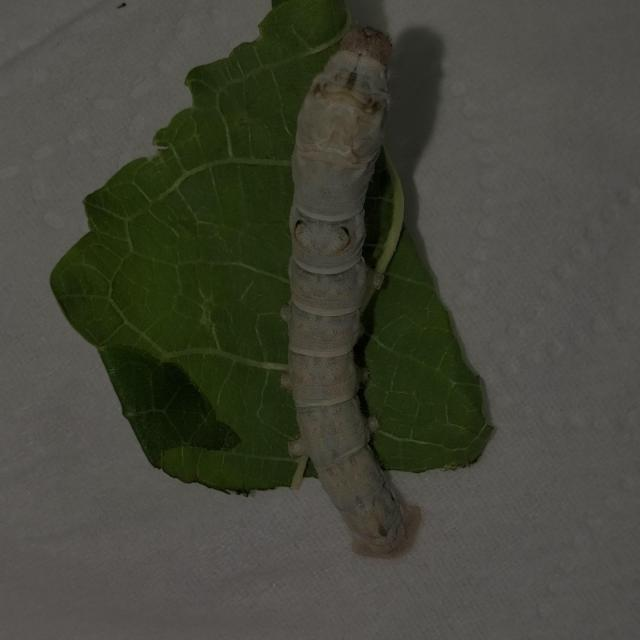Healthy: (232, 8, 478, 570)
